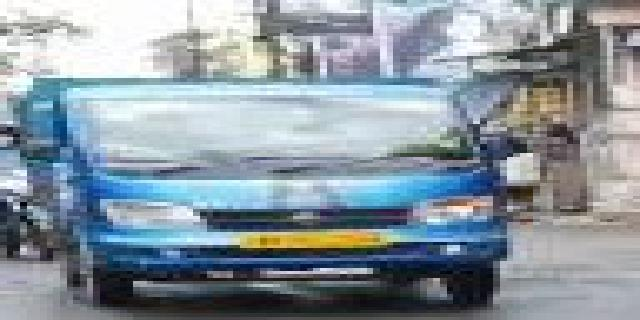Minitruck: (26, 67, 525, 316)
